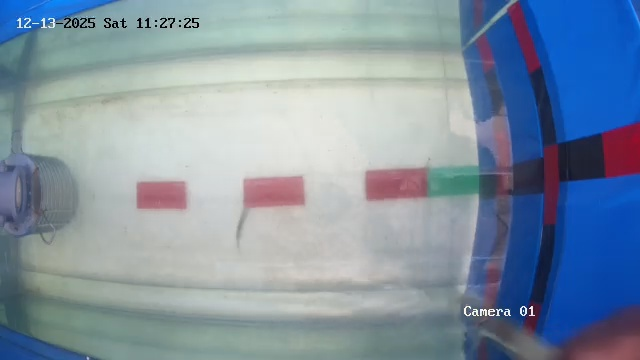fish: (224, 248, 260, 287)
